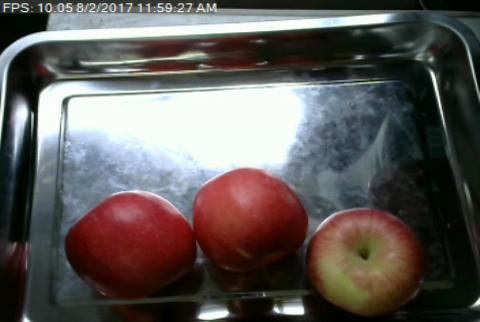apple: (64, 189, 197, 301), (307, 207, 424, 315), (196, 167, 310, 274)
